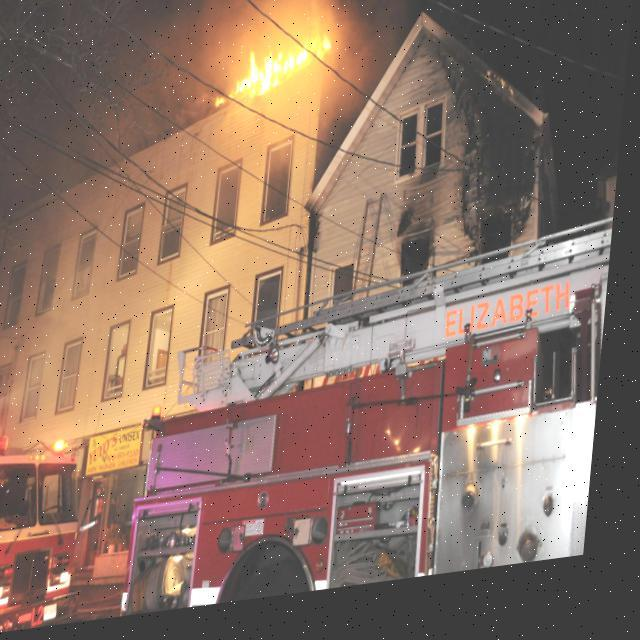Fire: (227, 44, 336, 109)
